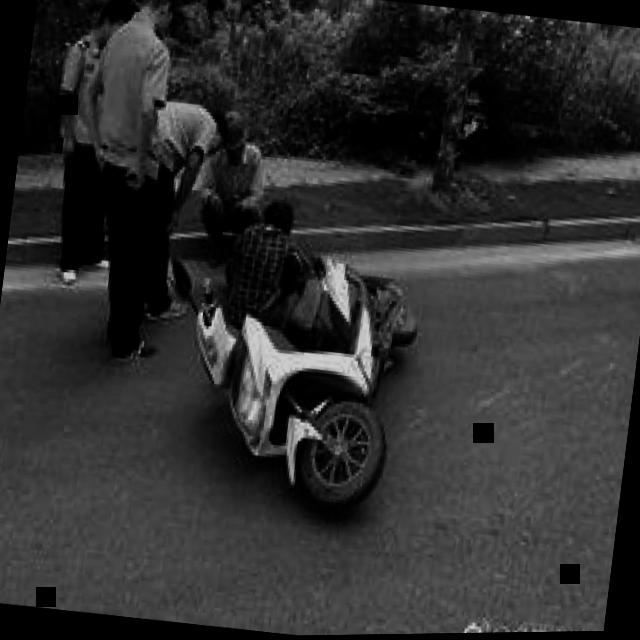Fall-Detected: (208, 183, 308, 318)
